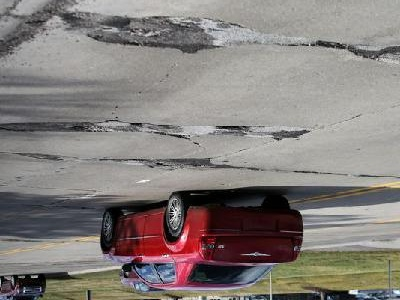pothole: (64, 10, 226, 56), (0, 119, 148, 134), (121, 157, 217, 173), (346, 44, 399, 62), (215, 123, 252, 134)
